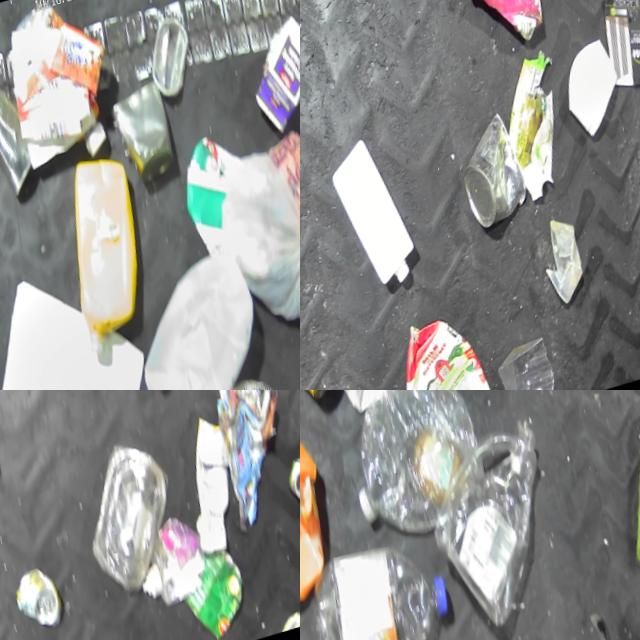can: (453, 112, 543, 238), (103, 79, 185, 194), (181, 547, 269, 640), (0, 83, 43, 206), (14, 562, 80, 638), (284, 452, 300, 528)
milk_jug: (120, 248, 292, 390), (321, 130, 436, 307)
non_white_jug: (48, 150, 170, 363), (300, 390, 357, 630), (395, 300, 520, 390)
plastic_bottle: (331, 390, 502, 560), (301, 526, 473, 640)
